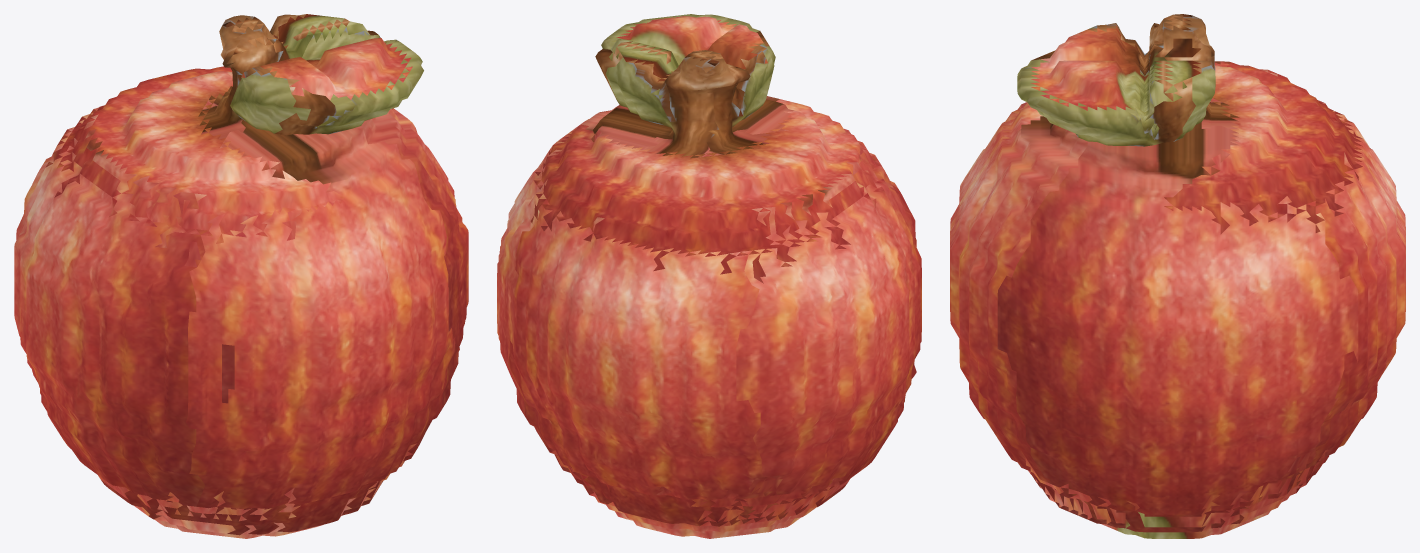
File: apple.glb
3 renders of one model, left to right at view 1: azimuth 30°, elevation 25°; view 2: azimuth 150°, elevation 25°; view 3: azimuth 270°, elevation 25°, orthographic. The views are drawn at different scales.
Bounding box in the file's own units: 0.8699 × 1 × 0.8785.
1 material, 1 textured.
